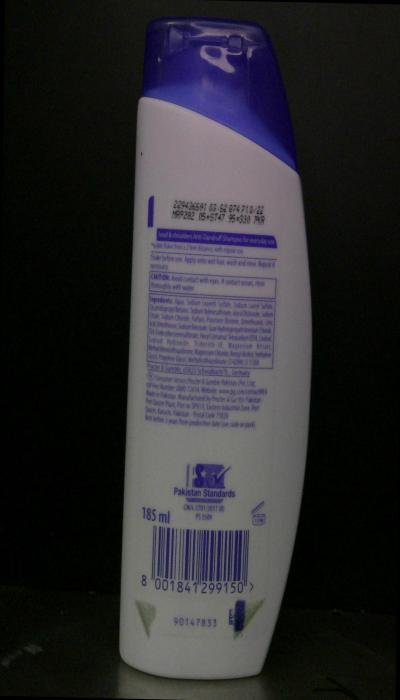adhesion_unacc: (130, 587, 167, 640), (230, 592, 264, 636)
